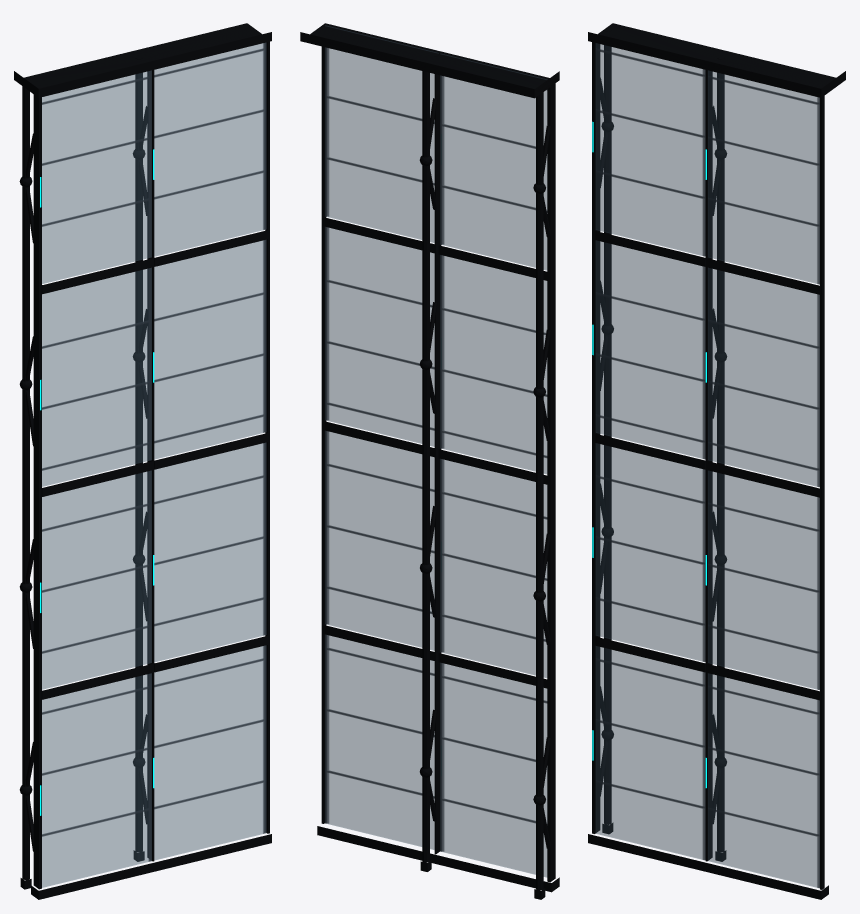
Rendered from tt_curtain_wall_panel.glb.
3 views of the same model, side by side, from view 1: azimuth 30°, elevation 25°; view 2: azimuth 150°, elevation 25°; view 3: azimuth 330°, elevation 25° (orthographic).
Parts seen in each view (by area): view 1: Fin_Branch, Glass_Pane_12, Glass_Pane_11, Glass_Pane_10, Glass_Pane_01, Glass_Pane_02, Glass_Pane_13, Glass_Pane_00, Glass_Pane_03, Transoms, Head_Track, End_Jamb (+1 smaller); view 2: Fin_Branch, Glass_Pane_11, Glass_Pane_12, Glass_Pane_10, Glass_Pane_02, Glass_Pane_01, Glass_Pane_00, Glass_Pane_13, Glass_Pane_03, Transoms, Head_Track, End_Jamb (+1 smaller); view 3: Fin_Branch, Glass_Pane_11, Glass_Pane_12, Glass_Pane_01, Glass_Pane_02, Glass_Pane_10, Glass_Pane_13, Glass_Pane_00, Glass_Pane_03, Transoms, Head_Track, End_Jamb (+1 smaller).
Boxes of the visible parts, <box> form: Fin_Branch: <box>19,58,154,889</box>; Glass_Pane_12: <box>154,239,266,459</box>; Glass_Pane_11: <box>154,442,266,661</box>; Glass_Pane_10: <box>154,645,266,859</box>; Glass_Pane_01: <box>42,470,151,689</box>; Glass_Pane_02: <box>42,267,151,486</box>; Glass_Pane_13: <box>154,42,266,256</box>; Glass_Pane_00: <box>42,673,151,887</box>; Glass_Pane_03: <box>42,70,151,283</box>; Transoms: <box>41,230,268,699</box>; Head_Track: <box>14,23,271,97</box>; End_Jamb: <box>265,41,269,833</box>; Fin_Branch: <box>419,54,555,899</box>; Glass_Pane_11: <box>325,430,434,650</box>; Glass_Pane_12: <box>325,226,434,446</box>; Glass_Pane_10: <box>325,634,434,849</box>; Glass_Pane_02: <box>440,255,547,473</box>; Glass_Pane_01: <box>440,458,547,677</box>; Glass_Pane_00: <box>440,662,547,877</box>; Glass_Pane_13: <box>325,25,438,242</box>; Glass_Pane_03: <box>440,53,547,270</box>; Transoms: <box>323,217,547,688</box>; Head_Track: <box>300,23,559,98</box>; End_Jamb: <box>321,25,326,823</box>; Fin_Branch: <box>592,30,726,861</box>; Glass_Pane_11: <box>708,470,819,690</box>; Glass_Pane_12: <box>708,268,819,487</box>; Glass_Pane_01: <box>595,443,705,662</box>; Glass_Pane_02: <box>595,240,705,459</box>; Glass_Pane_10: <box>708,673,819,888</box>; Glass_Pane_13: <box>708,70,819,284</box>; Glass_Pane_00: <box>595,646,705,860</box>; Glass_Pane_03: <box>595,43,705,256</box>; Transoms: <box>594,230,820,700</box>; Head_Track: <box>588,23,845,97</box>; End_Jamb: <box>820,96,824,889</box>.
Size of what is drawn, in the model's own units: 4.03 by 13.3 by 0.73.
Materials: 3 (2 with a texture image).
